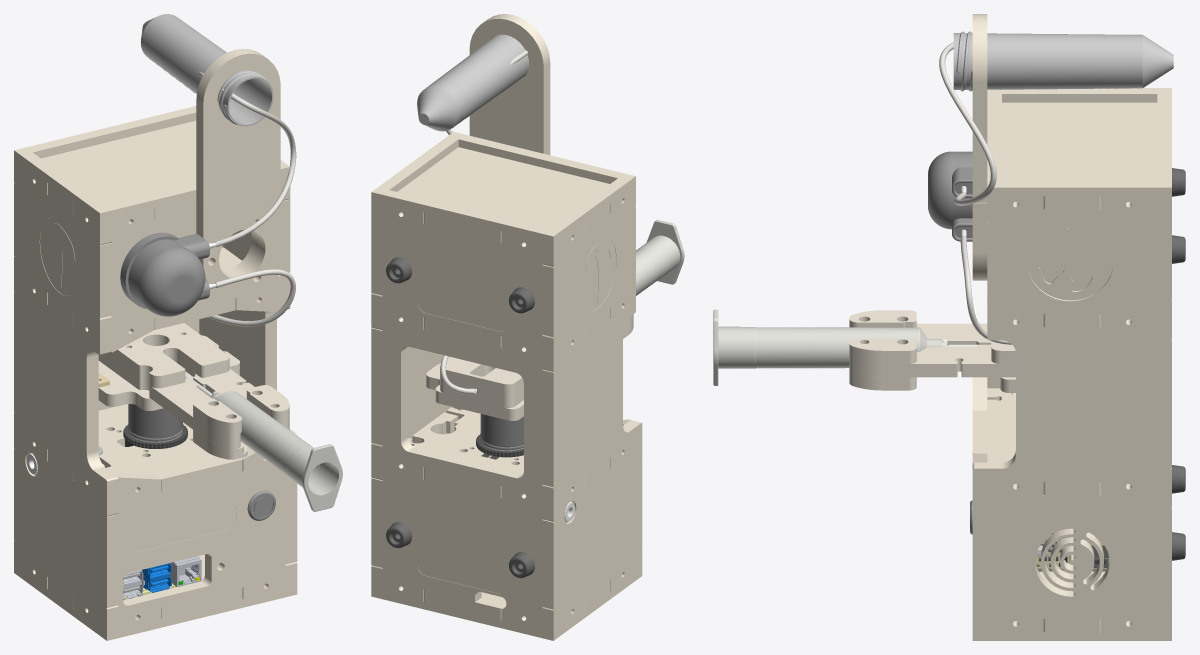
Rendered from Test beige.glb.
3 renders of one model, left to right at view 1: azimuth 30°, elevation 25°; view 2: azimuth 150°, elevation 25°; view 3: azimuth 270°, elevation 25°, orthographic. The views are drawn at different scales.
Parts seen in each view (by area): view 1: E+.001, D (1) (1), Body1.111, D (1), A, Body1.164, B.001, Body1.152, E.001, Body13.006, Body1.158, D (+15 smaller); view 2: D, E+.001, A, Body1.111, Body1.164, E.001, B.001, D (1), Body1.152, Body1.158, B+, Body1.159 (+8 smaller); view 3: E.001, A, Body1.164, Body1.152, D, Body1.157, Body1.111, B.001, Body13.006, E+.001, D (1), D (1) (1) (+7 smaller).
Part boxes in pixels (<box>): E+.001: <box>14,147,118,640</box>; D (1) (1): <box>100,448,297,637</box>; Body1.111: <box>196,48,280,296</box>; D (1): <box>93,183,290,352</box>; A: <box>41,120,196,220</box>; Body1.164: <box>140,14,273,126</box>; B.001: <box>47,404,248,491</box>; Body1.152: <box>212,391,342,511</box>; E.001: <box>193,106,297,597</box>; Body13.006: <box>128,235,209,316</box>; Body1.158: <box>106,323,229,388</box>; D: <box>14,107,199,544</box>; D: <box>371,190,559,637</box>; E+.001: <box>542,173,642,640</box>; A: <box>397,147,610,243</box>; Body1.111: <box>469,14,550,155</box>; Body1.164: <box>417,34,529,131</box>; E.001: <box>371,132,464,599</box>; B.001: <box>408,407,610,497</box>; D (1): <box>458,134,635,281</box>; Body1.152: <box>635,220,684,295</box>; Body1.158: <box>440,357,523,396</box>; B+: <box>423,580,610,620</box>; Body1.159: <box>426,356,523,420</box>; E.001: <box>972,181,1171,640</box>; A: <box>1002,102,1157,209</box>; Body1.164: <box>953,31,1173,91</box>; Body1.152: <box>713,309,941,385</box>; D: <box>1157,94,1171,605</box>; Body1.157: <box>849,323,1015,377</box>; Body1.111: <box>972,14,987,280</box>; B.001: <box>972,388,1101,495</box>; Body13.006: <box>928,151,972,241</box>; E+.001: <box>987,88,1171,394</box>; D (1): <box>987,94,1001,300</box>; D (1) (1): <box>972,377,987,605</box>.
Size of the model in its own units: 0.1282 by 0.3411 by 0.2458.
